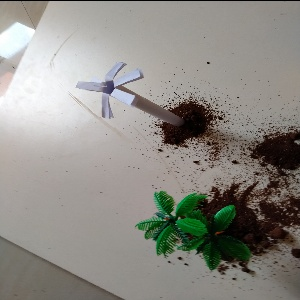plant: (144, 187, 261, 265)
weed: (74, 63, 186, 127)
